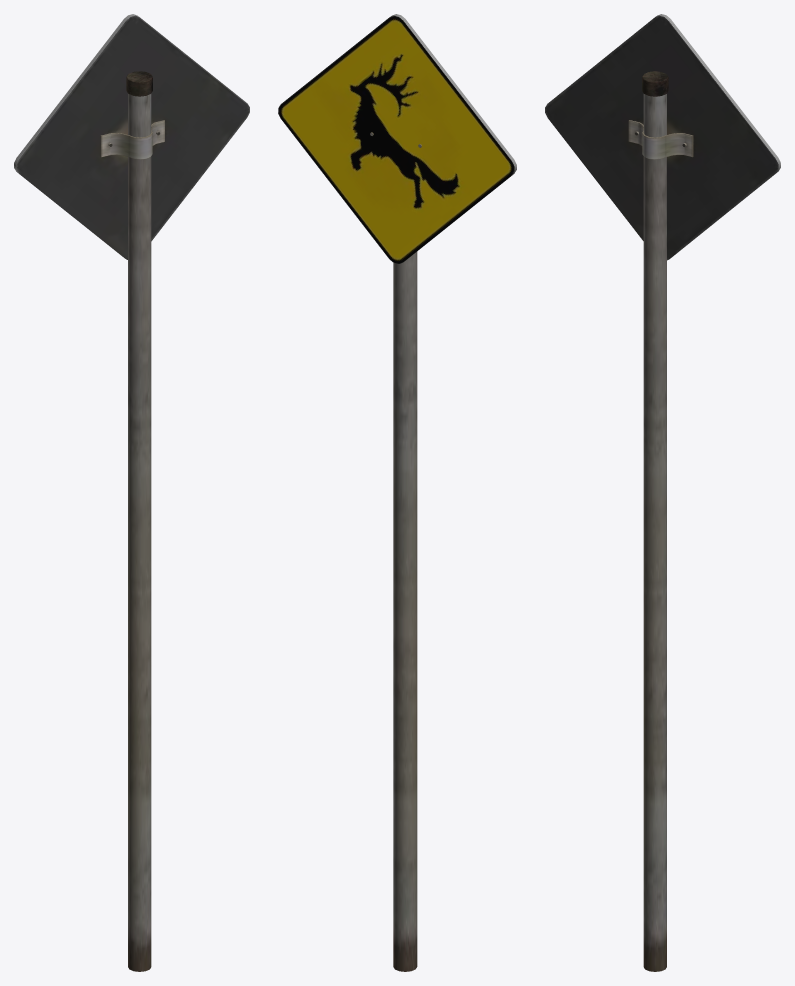
File: SM_Sign_Priority_01_merged_3b78aa.glb
3 views of the same model, side by side, from view 1: azimuth 30°, elevation 25°; view 2: azimuth 150°, elevation 25°; view 3: azimuth 330°, elevation 25° (orthographic).
Size of the model in its own units: 0.6864 by 2.66 by 0.0827.
Materials: 2 (2 with a texture image).
